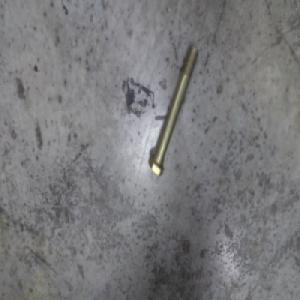Bolt: (152, 44, 203, 176)
